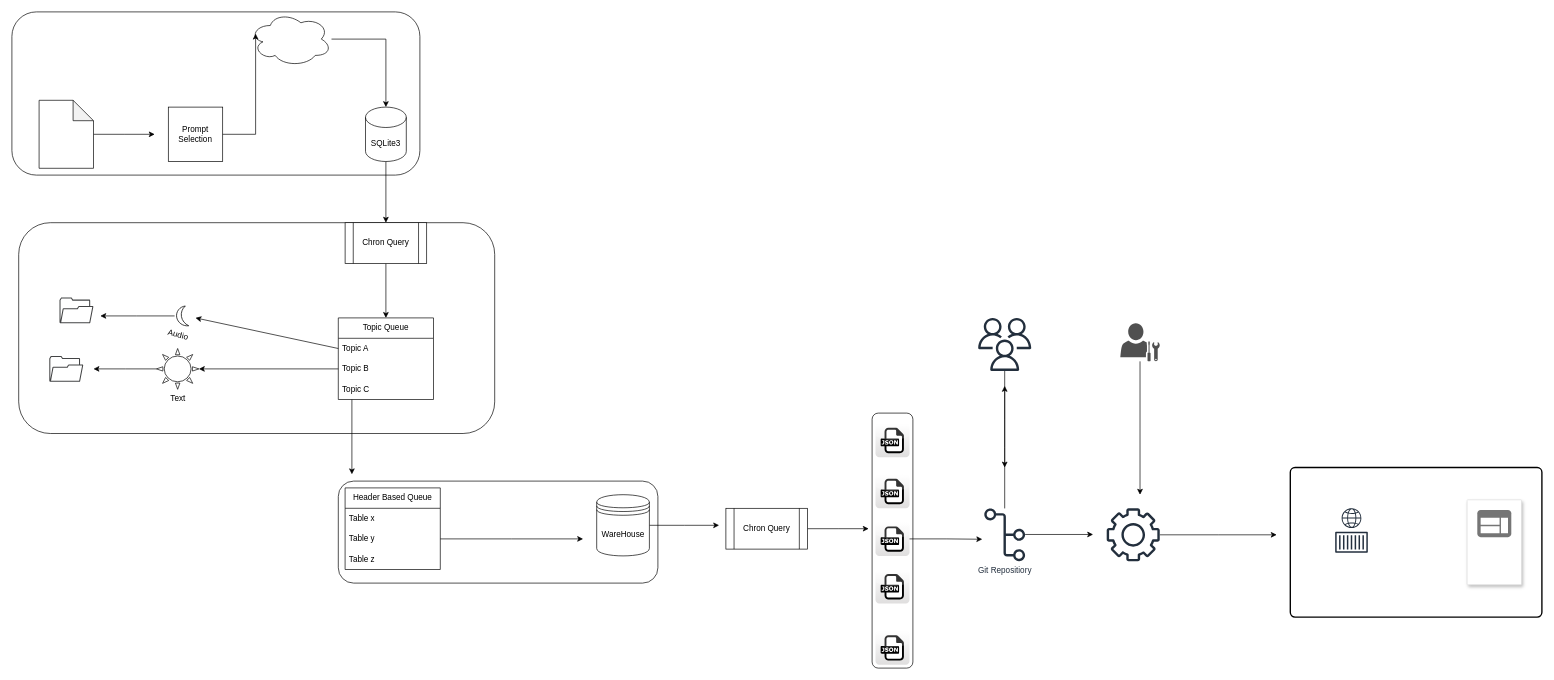
The diagram is 1554 pixels wide and 680 high, and some of its shapes have lost their labels. Here are the shapes that lost their labels. From the top down, the centre of each, then its label:
(x=290, y=38): Local AI Server
(x=66, y=134): User Input
(x=1132, y=534): Git Workflow
(x=1351, y=542): API Container(microservice)
(x=1495, y=543): Front Application Container
